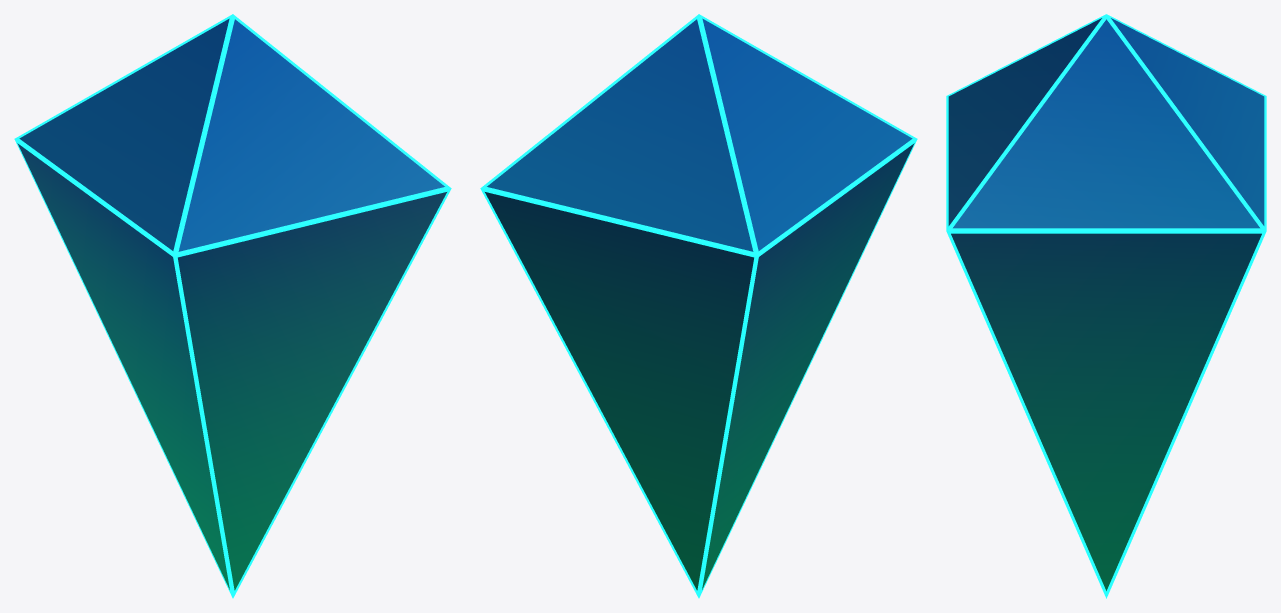
Rendered from diamond.glb.
3 renders of one model, left to right at view 1: azimuth 30°, elevation 25°; view 2: azimuth 150°, elevation 25°; view 3: azimuth 270°, elevation 25°, orthographic.
Parts seen in each view (by area): view 1: Rectangle001.001, Rectangle001; view 2: Rectangle001.001, Rectangle001; view 3: Rectangle001.001, Rectangle001.
Part boxes in pixels (x1,y1,x2,y2): Rectangle001.001: (17,18,446,590); Rectangle001: (14,14,451,598); Rectangle001.001: (485,18,914,590); Rectangle001: (480,14,917,598); Rectangle001.001: (948,18,1264,590); Rectangle001: (946,14,1266,598).
Size of the model in its own units: 10 by 20.16 by 10.
